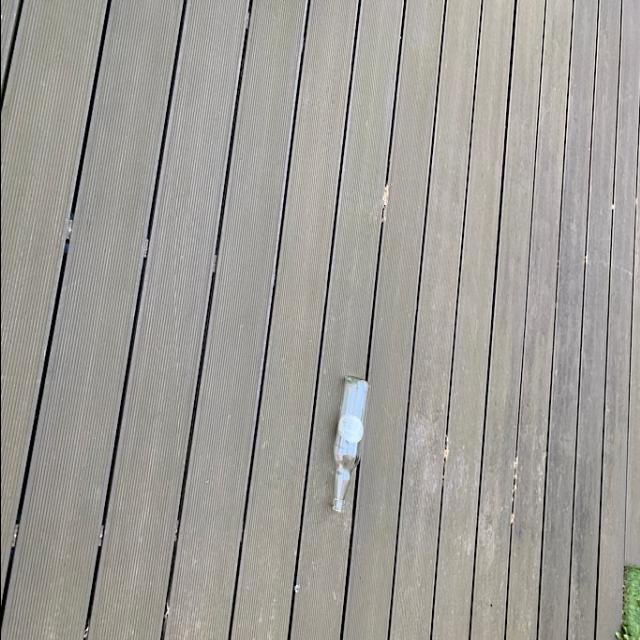litter: (325, 368, 371, 516)
